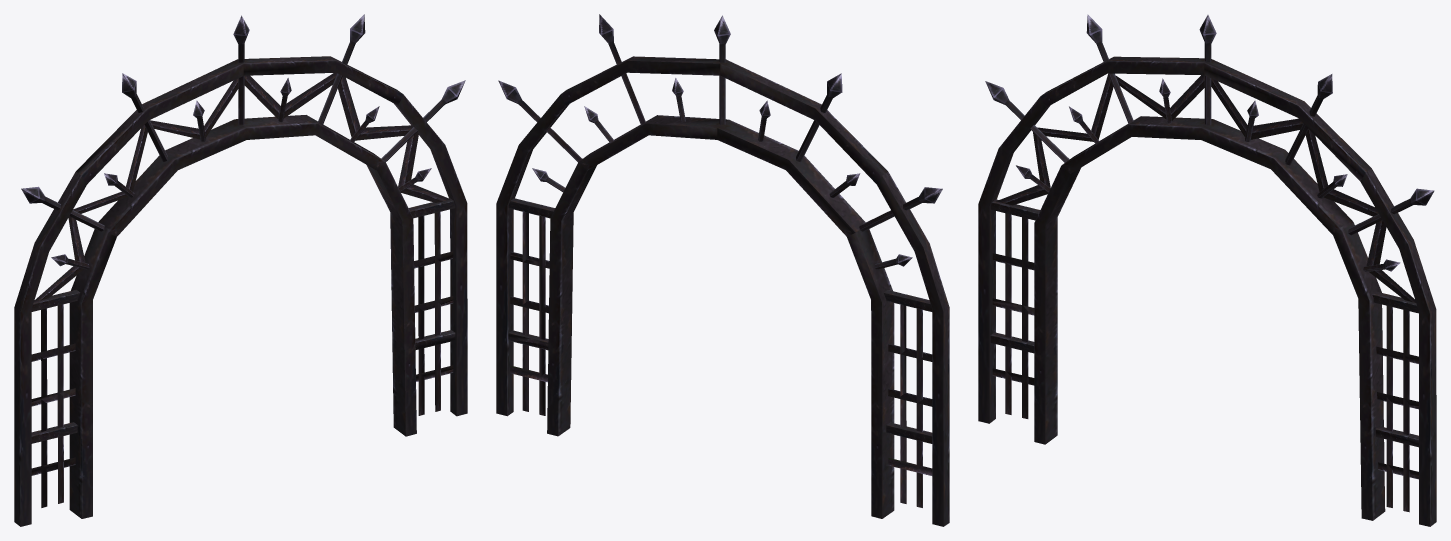
The model's file is tlfb2_tiemen.FBX.
The picture shows the model from 3 angles, left to right: view 1: azimuth 30°, elevation 25°; view 2: azimuth 150°, elevation 25°; view 3: azimuth 330°, elevation 25°; orthographic projection.
Visible parts, largest first — view 1: tlfb2_tiemen; view 2: tlfb2_tiemen; view 3: tlfb2_tiemen.
Part boxes in pixels (x1,y1,x2,y2): tlfb2_tiemen: (14, 14, 467, 526); tlfb2_tiemen: (496, 14, 949, 526); tlfb2_tiemen: (978, 14, 1436, 526).
Size of the model in its own units: 642 by 628 by 30.72.
